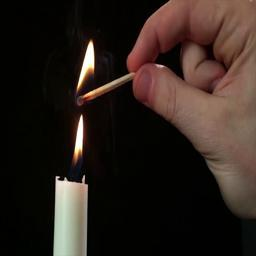fire: (76, 40, 95, 94), (73, 114, 84, 164)
